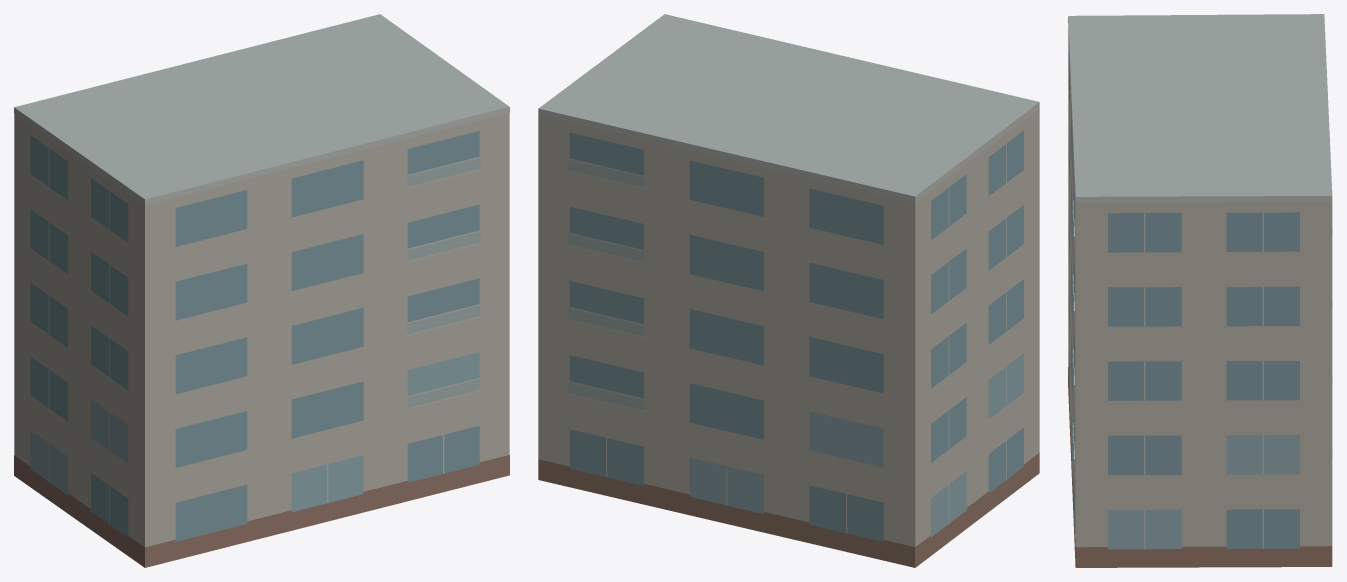
File: survey-upis-33000203.glb
3 renders of one model, left to right at view 1: azimuth 30°, elevation 25°; view 2: azimuth 150°, elevation 25°; view 3: azimuth 270°, elevation 25°, orthographic.
Parts seen in each view (by area): view 1: survey-upis-33000203.tmp; view 2: survey-upis-33000203.tmp; view 3: survey-upis-33000203.tmp.
Part boxes in pixels (x1,y1,x2,y2): survey-upis-33000203.tmp: (14,14,509,567); survey-upis-33000203.tmp: (538,14,1039,567); survey-upis-33000203.tmp: (1068,14,1332,567).
Size of the model in its own units: 15.44 by 14.6 by 9.44.
